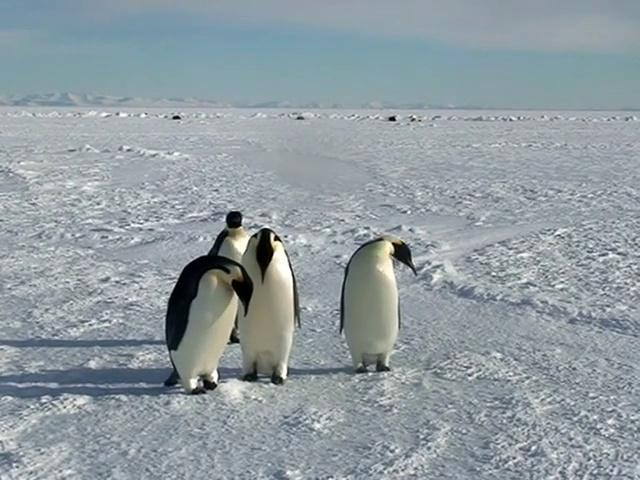animal: (341, 236, 413, 369)
